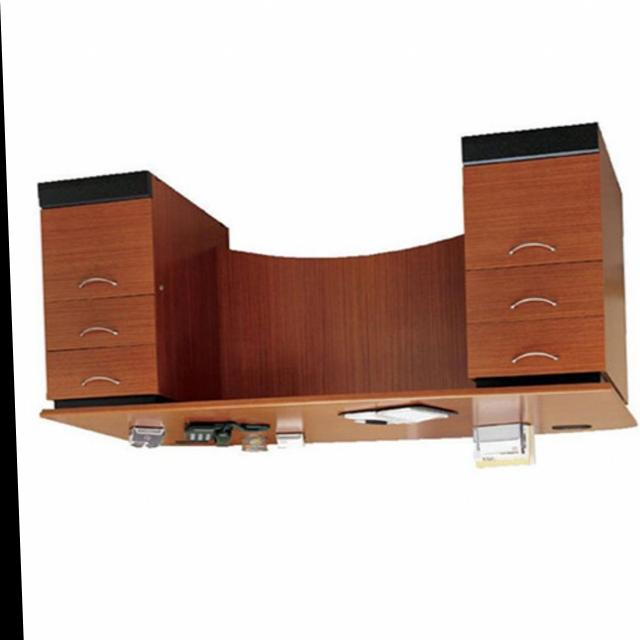Table: (20, 109, 640, 464)
